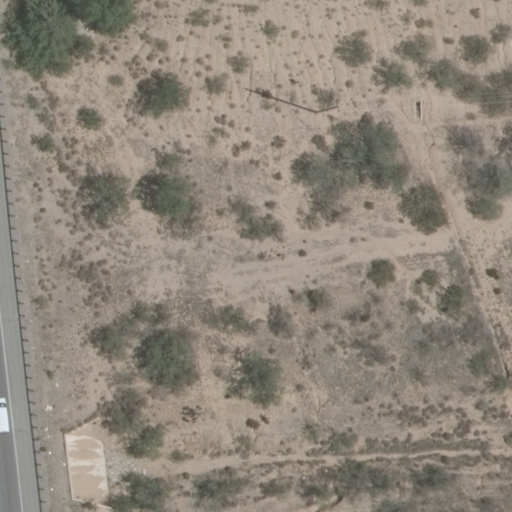DT: (309, 100, 341, 119)
